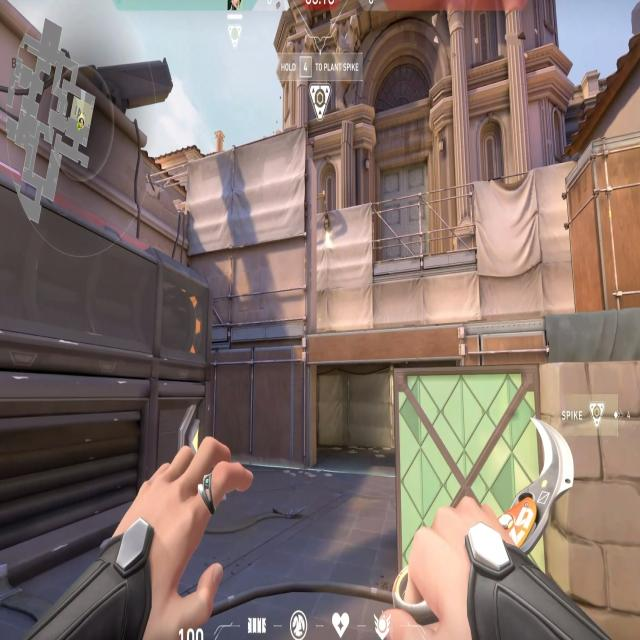A_Heaven_Box: (559, 120, 640, 312)
A_Heaven_Wall: (216, 115, 344, 346)
A_Hell: (292, 323, 425, 482)
A_Site_Box: (380, 348, 640, 591)
